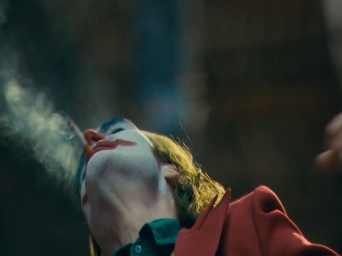smoke: (67, 120, 94, 152)
